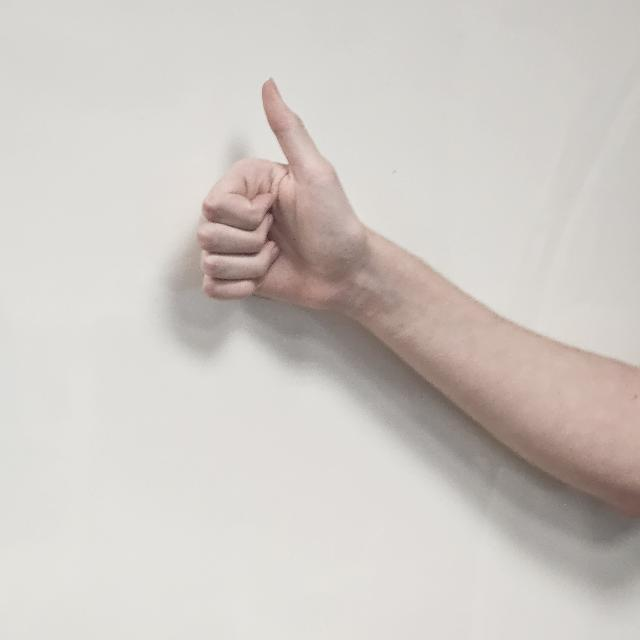Start: (199, 78, 363, 332)
